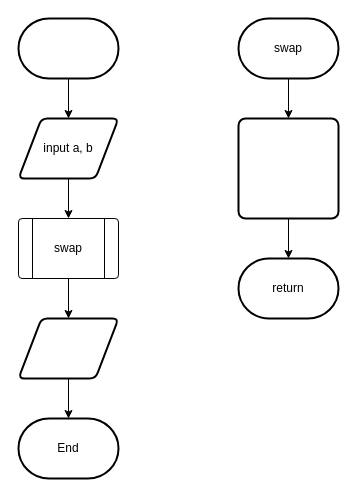
This 356x496 diagram has some shape labels left out. The centre of each missing label's shape, as x and y in pixels:
"print a, b" belongs at (68,348).
"Start" belongs at (68,48).
"temp = a a = b b = temp" belongs at (288,168).
